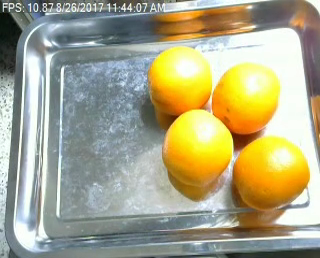Orange: (233, 136, 310, 211), (162, 108, 234, 186), (211, 61, 281, 134), (145, 46, 211, 114)
